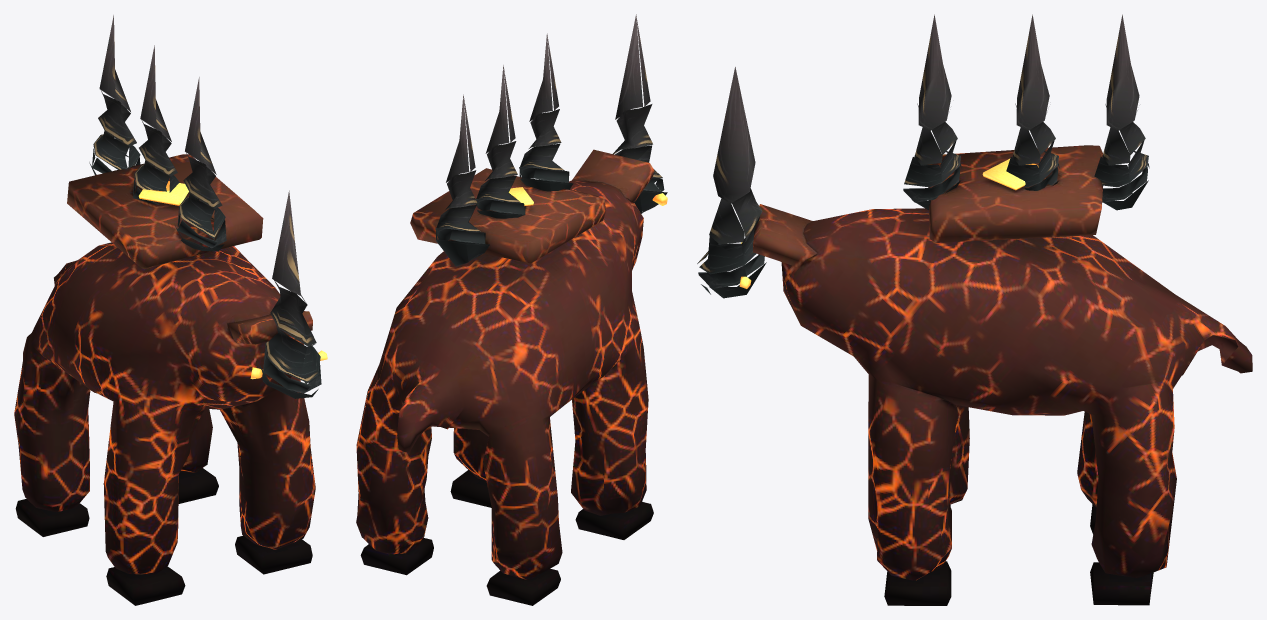
The model's file is u_behemoth_x_g.glb.
3 renders of one model, left to right at view 1: azimuth 30°, elevation 25°; view 2: azimuth 150°, elevation 25°; view 3: azimuth 270°, elevation 25°, orthographic. The views are drawn at different scales.
Parts seen in each view (by area): view 1: u_behemoth_x; view 2: u_behemoth_x; view 3: u_behemoth_x.
Boxes of the visible parts, x1,y1,x2,y2 form: u_behemoth_x: (14,15,327,605); u_behemoth_x: (356,14,667,605); u_behemoth_x: (697,14,1252,605).
Bounding box in the file's own units: 1.51 × 3.67 × 3.41.
Materials: 2 (2 with a texture image).
